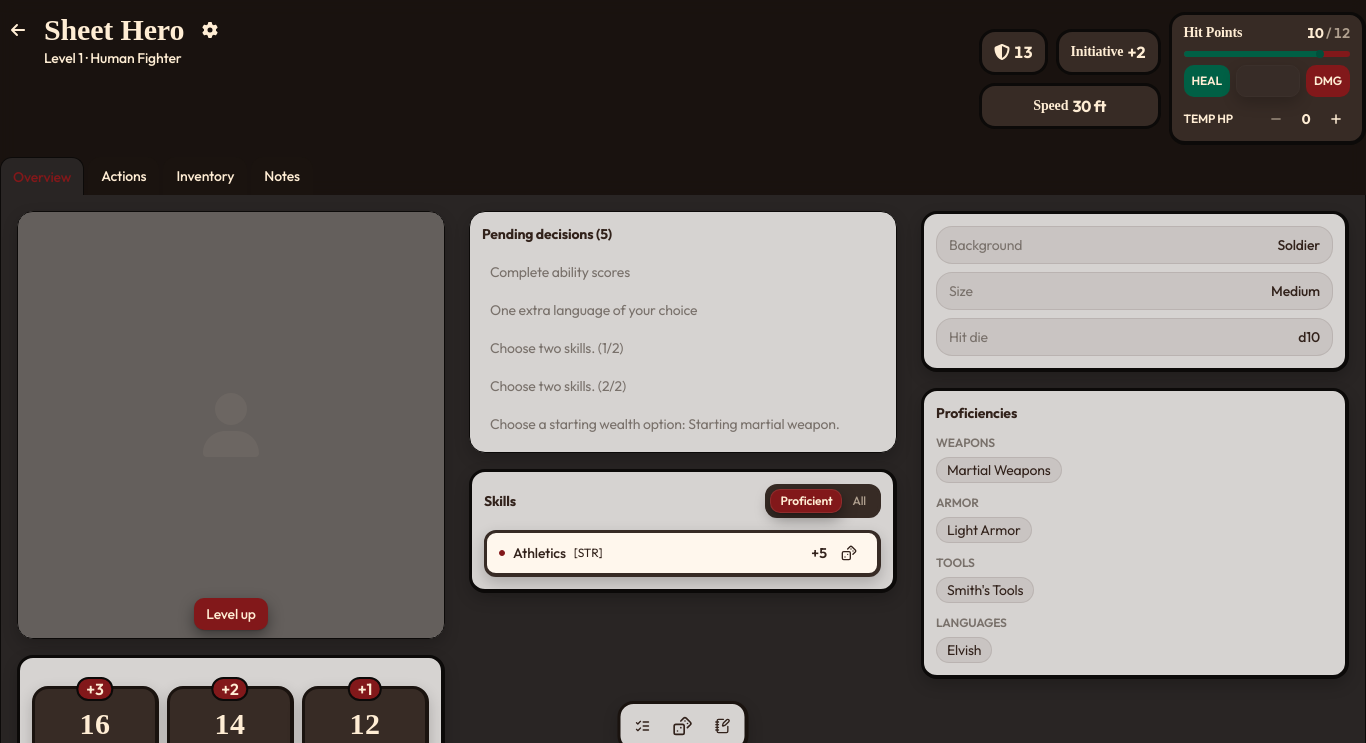
Test: PlayerSheet › opens longsword attack roll from combat tab
Click the tab "Actions" at (124, 176), box x1=88 y1=157 x2=159 y2=195
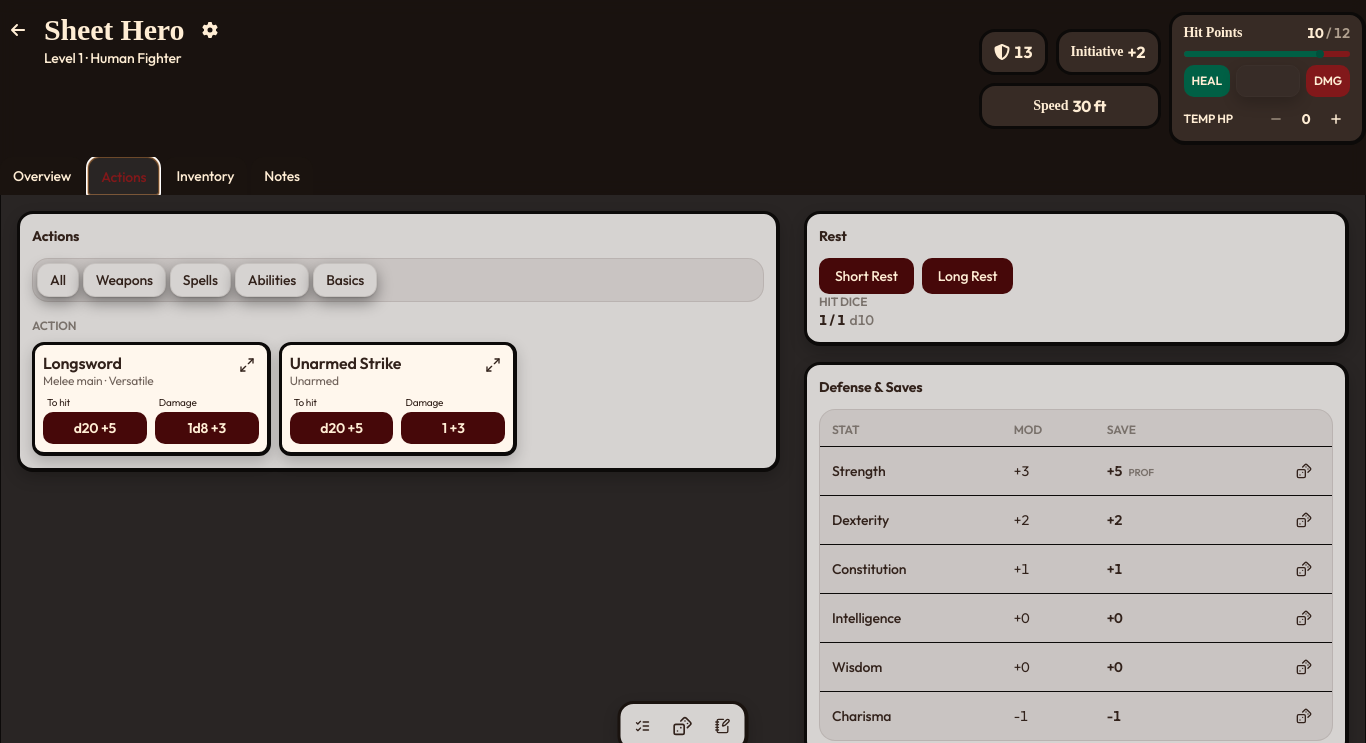
Click the button "d20 +5" below "Melee main · Versatile" at (95, 428), box x1=43 y1=412 x2=147 y2=444
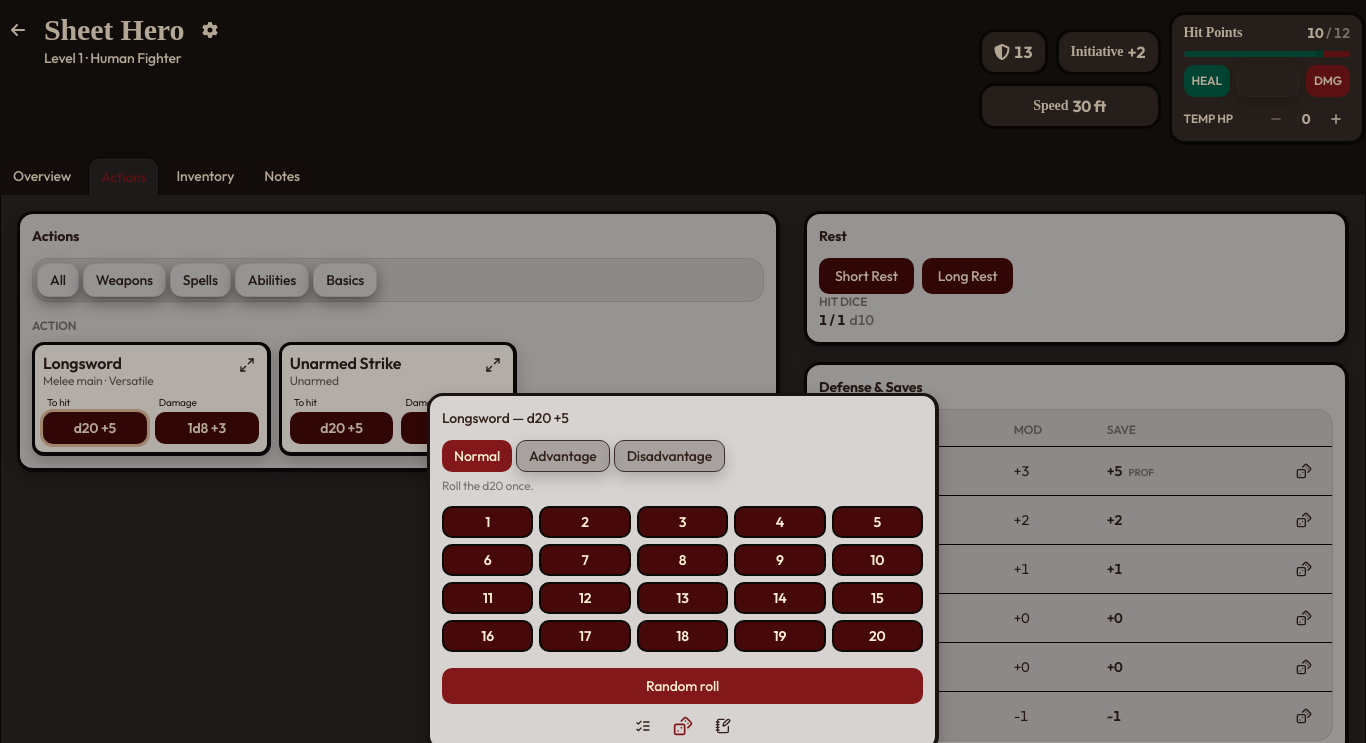
expect the text "Longsword — d20 +5" is shown: met, box x1=442 y1=409 x2=569 y2=427
